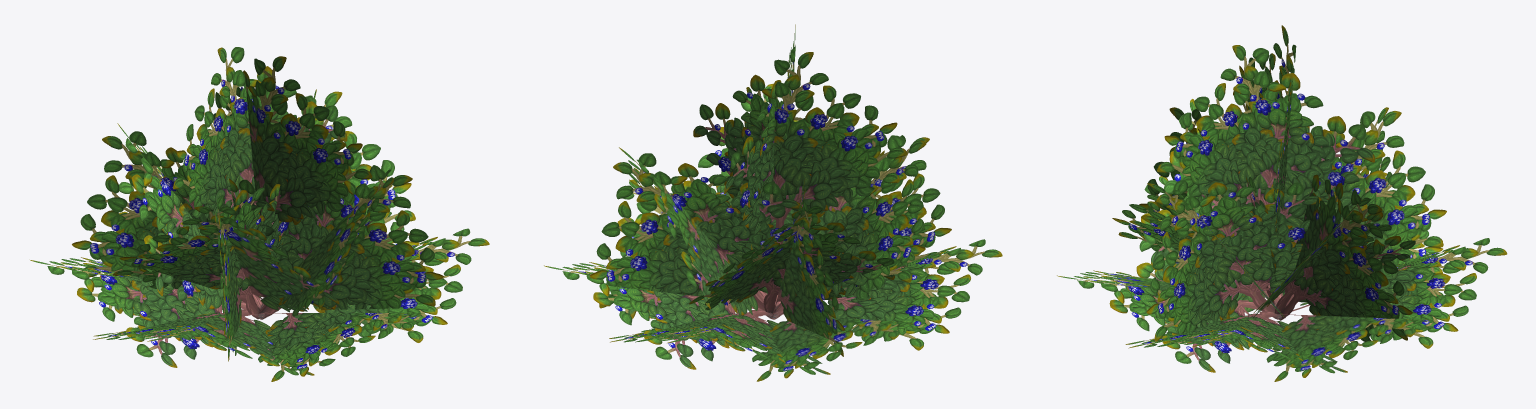
The model's file is bushE.fbx.
3 renders of one model, left to right at view 1: azimuth 30°, elevation 25°; view 2: azimuth 150°, elevation 25°; view 3: azimuth 270°, elevation 25°, orthographic.
Parts seen in each view (by area): view 1: bushE; view 2: bushE; view 3: bushE.
Part boxes in pixels (x1,y1,x2,y2): bushE: [30, 47, 489, 381]; bushE: [544, 24, 1002, 381]; bushE: [1057, 25, 1507, 381].
Size of the model in its own units: 308 by 230 by 312.
Materials: 1 (1 with a texture image).
